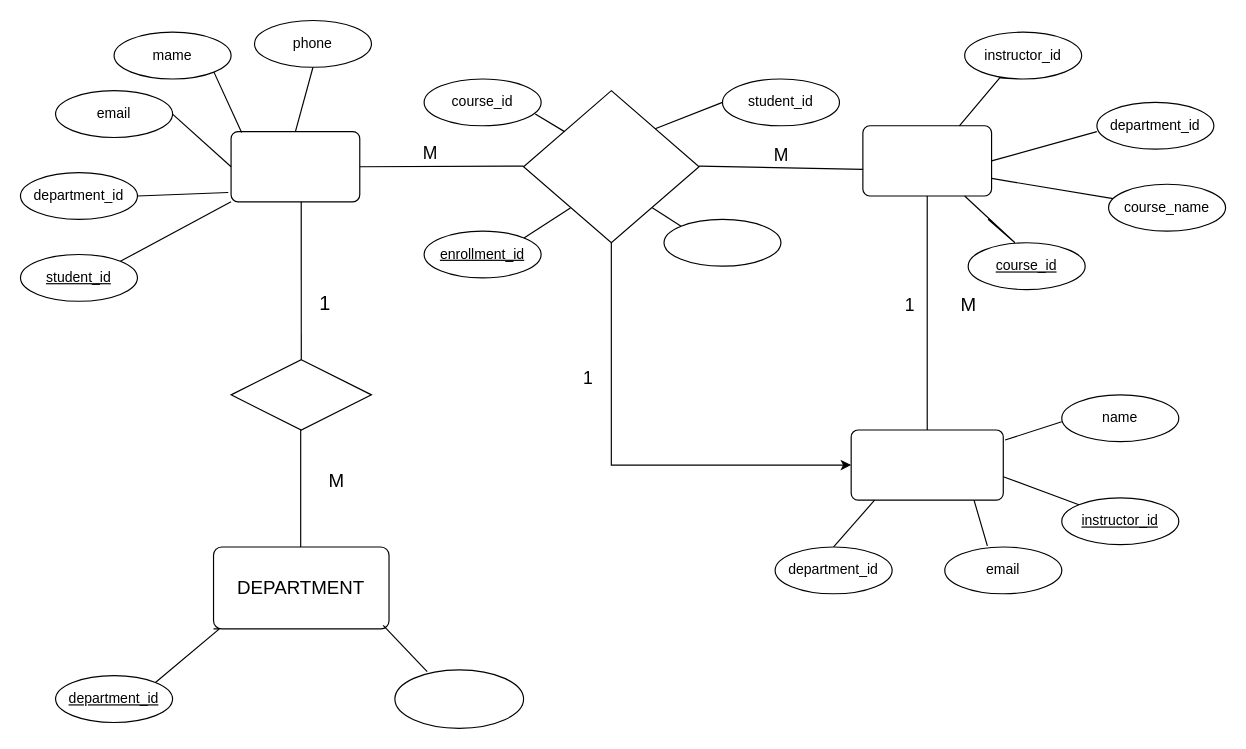
The diagram is 1246 pixels wide and 749 high, and some of its shapes have lost their labels. Here are the shapes that lost their labels. From the top down, the centre of each, then its label:
At (x=295, y=166): "STUDENT".
At (x=610, y=166): "ENROLLMENT".
At (x=927, y=160): "COURSE".
At (x=722, y=242): "grade".
At (x=300, y=394): "BELONG TO".
At (x=926, y=464): "INSTRUCTOR".
At (x=459, y=698): "department_name".
